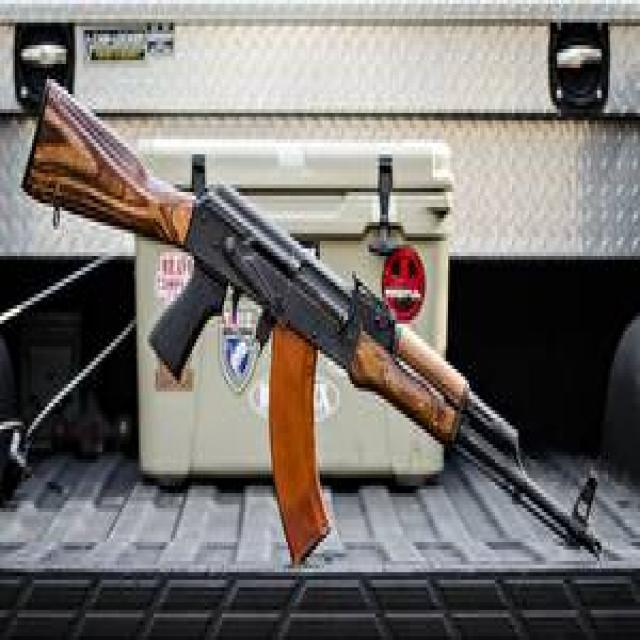ak: (18, 74, 604, 586)
